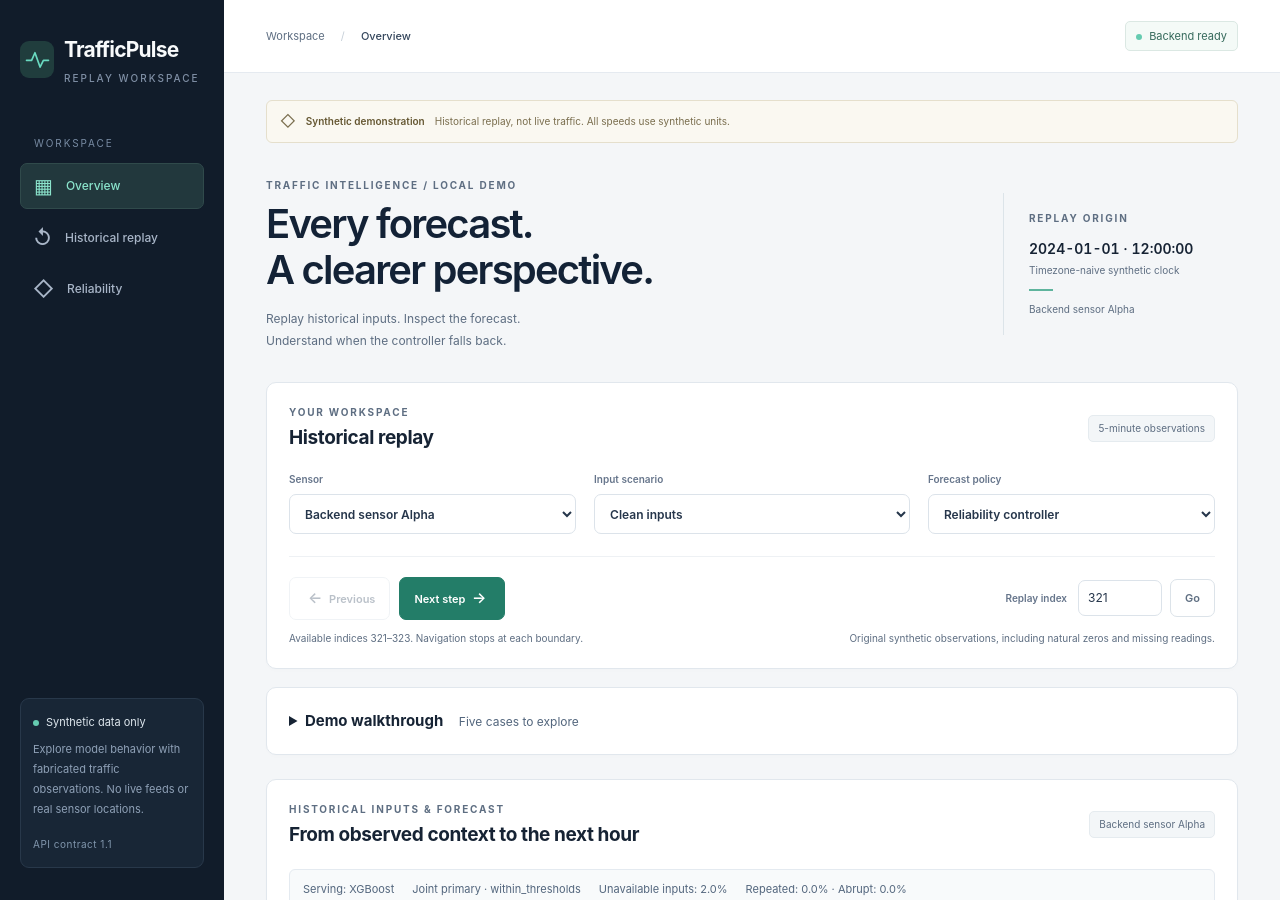
Test: synthetic dashboard foundation › uses backend navigation links and boundaries
The width and height of the screenshot is (1280, 900).
Expected: the button with aria-label "Previous replay step" is disabled, left=289, top=577, right=390, bottom=620
Click the button with aria-label "Next replay step".
click(452, 598)  # box left=399, top=577, right=505, bottom=620
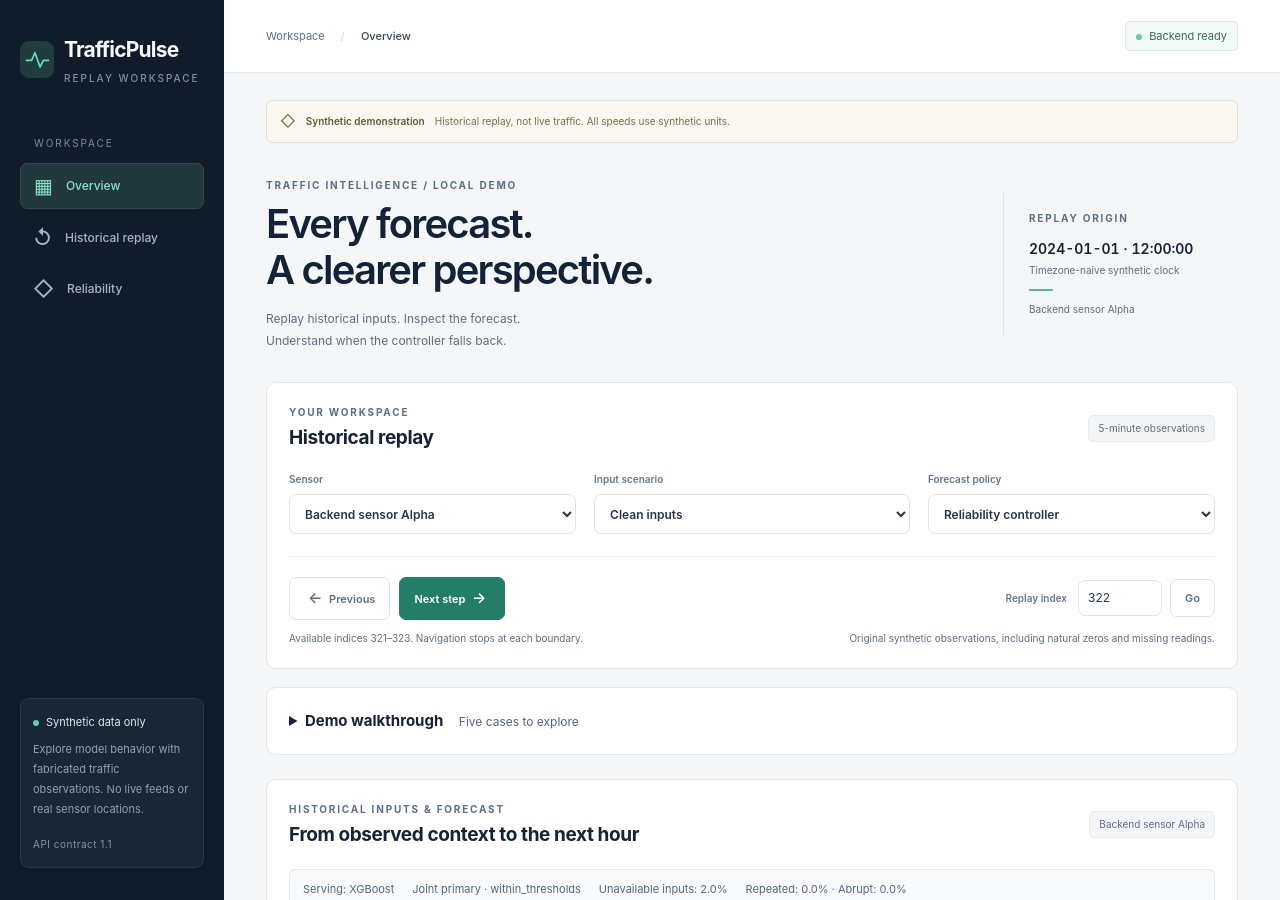
Replace the text in the number field labelled "Replay index" with "323" at (1120, 598), box left=1078, top=580, right=1162, bottom=616
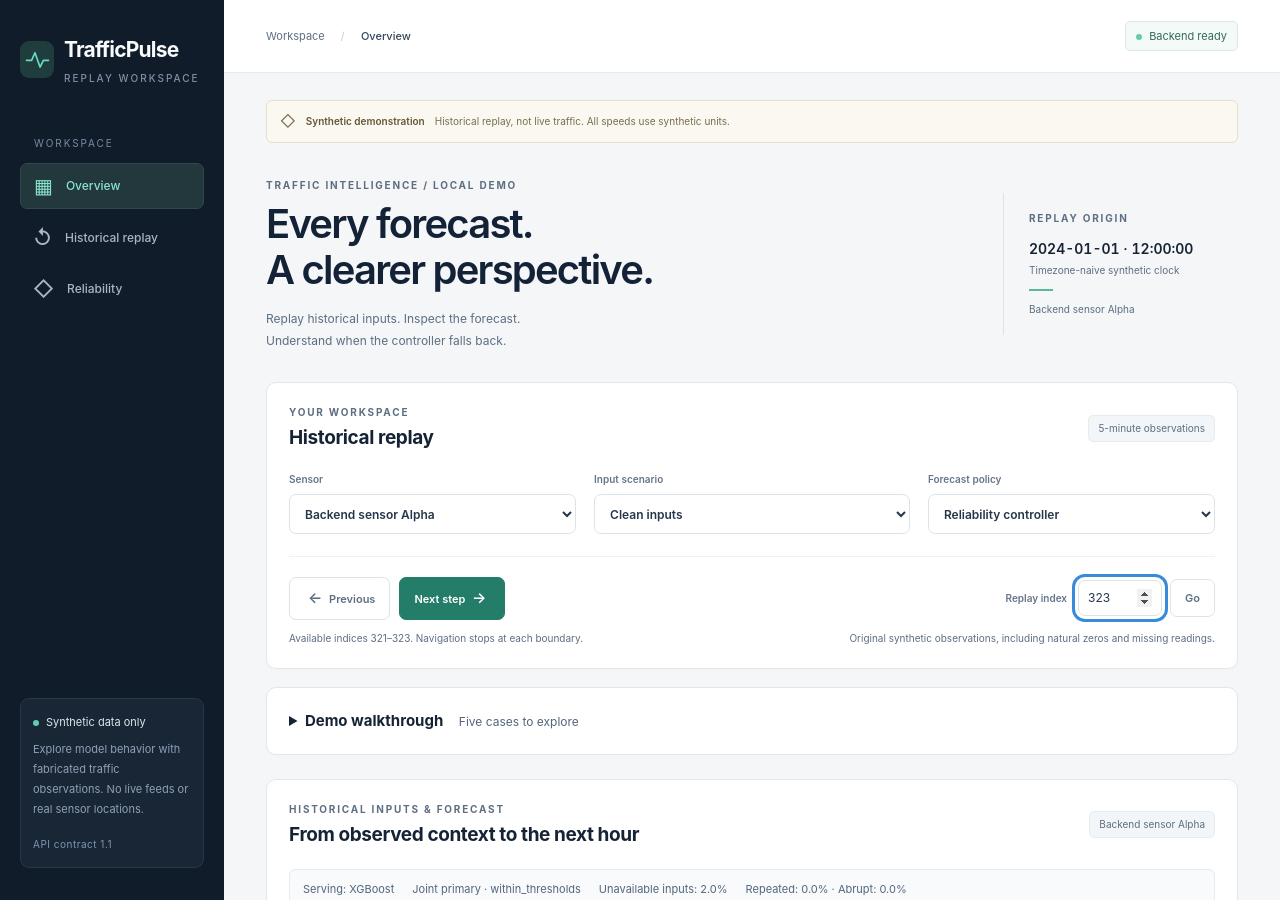
Click the button "Go".
click(1193, 598)  # box left=1170, top=579, right=1215, bottom=617
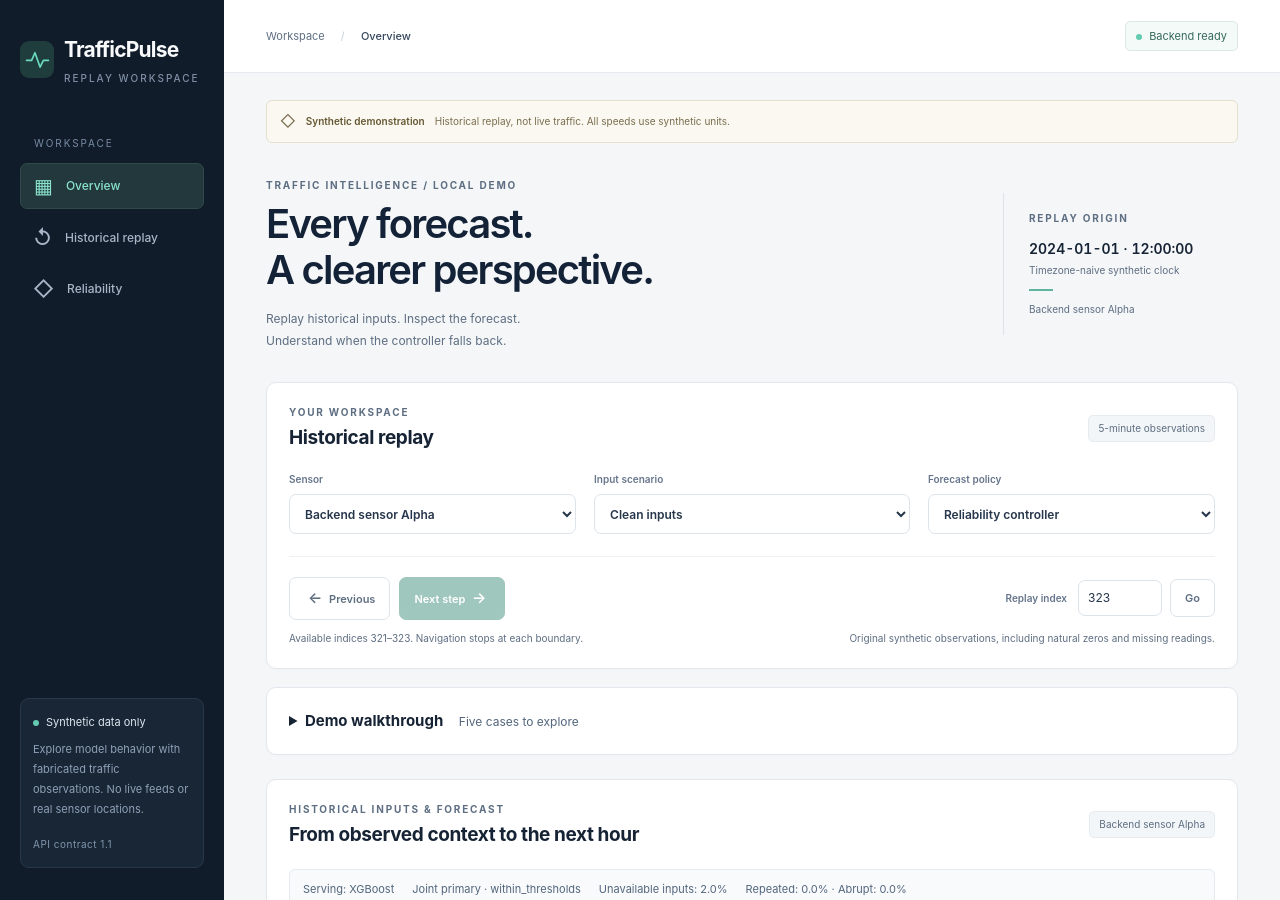
Expected: the button with aria-label "Next replay step" is disabled, left=399, top=577, right=505, bottom=620
